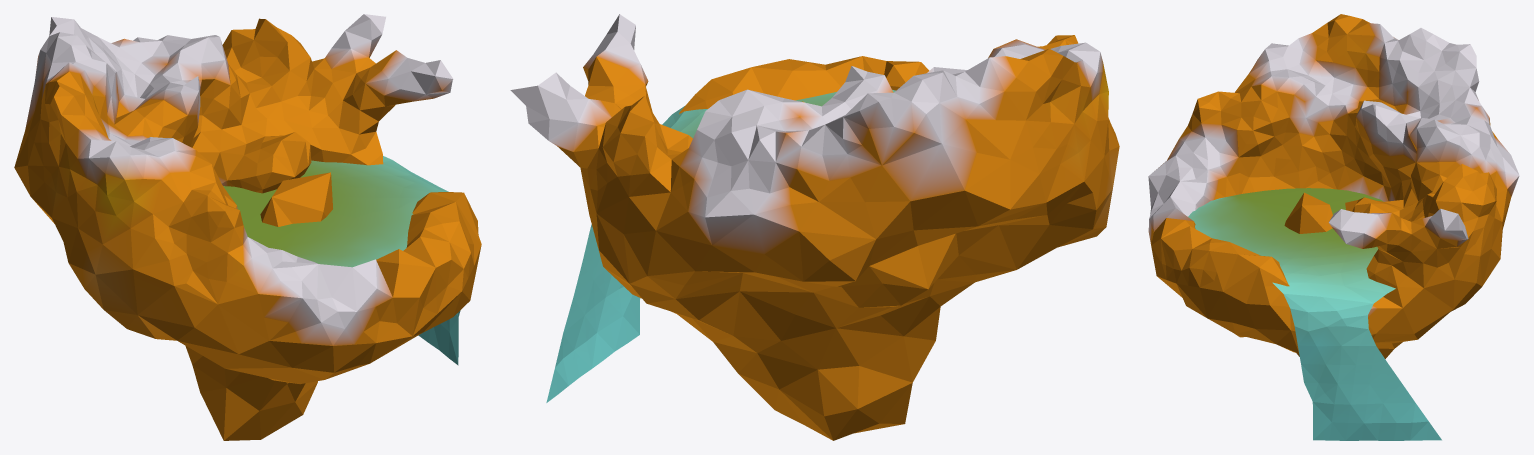
File: floating_lowpoly_island.glb
The picture shows the model from 3 angles, left to right: view 1: azimuth 30°, elevation 25°; view 2: azimuth 150°, elevation 25°; view 3: azimuth 270°, elevation 25°; orthographic projection. The views are drawn at different scales.
Parts seen in each view (by area): view 1: Island, Water; view 2: Island, Water; view 3: Island, Water.
Part boxes in pixels (left/top/right/bottom): Island: left=14, top=14, right=481, bottom=440; Water: left=223, top=156, right=460, bottom=365; Island: left=510, top=14, right=1119, bottom=440; Water: left=546, top=89, right=895, bottom=402; Island: left=1148, top=14, right=1519, bottom=358; Water: left=1188, top=188, right=1441, bottom=440.
Bounding box in the file's own units: 21.16 × 19.12 × 20.62.
